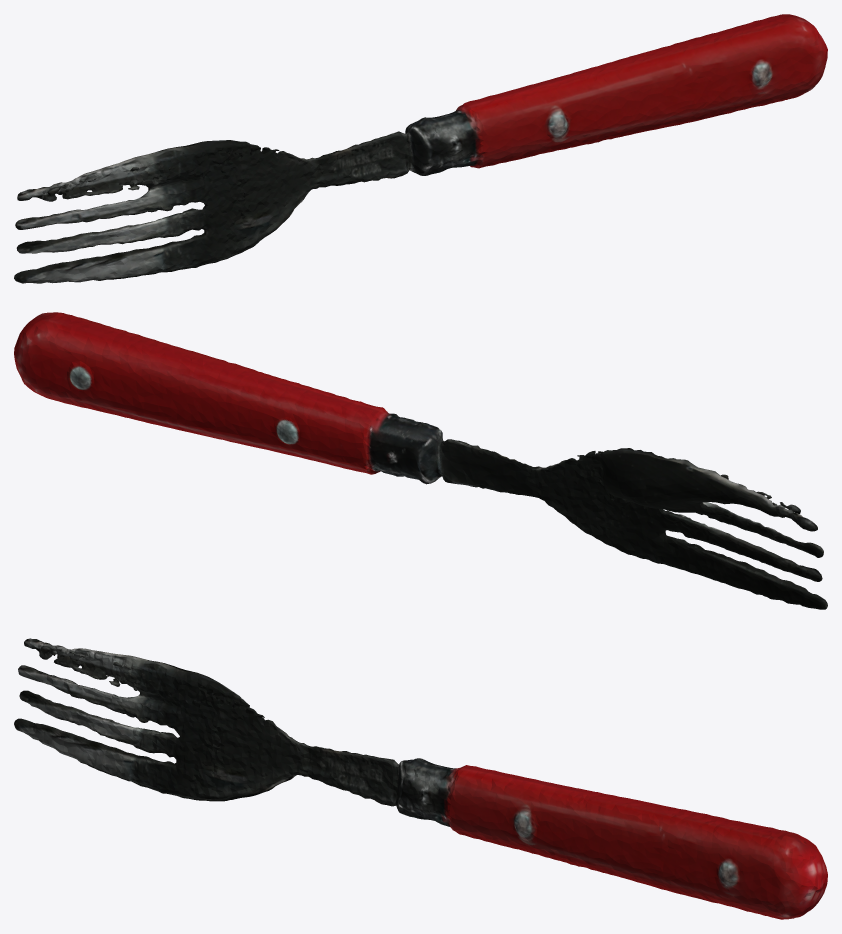
3 renders of one model, top to bottom at view 1: azimuth 30°, elevation 25°; view 2: azimuth 150°, elevation 25°; view 3: azimuth 330°, elevation 25°, orthographic. The views are drawn at different scales.
Visible parts, largest first — view 1: node; view 2: node; view 3: node.
Part boxes in pixels (x1,y1,x2,y2): node: (14, 14, 827, 283); node: (14, 312, 827, 609); node: (14, 638, 827, 919).
Size of the model in its own units: 0.1976 by 0.0271 by 0.0159.
1 material, 1 textured.
